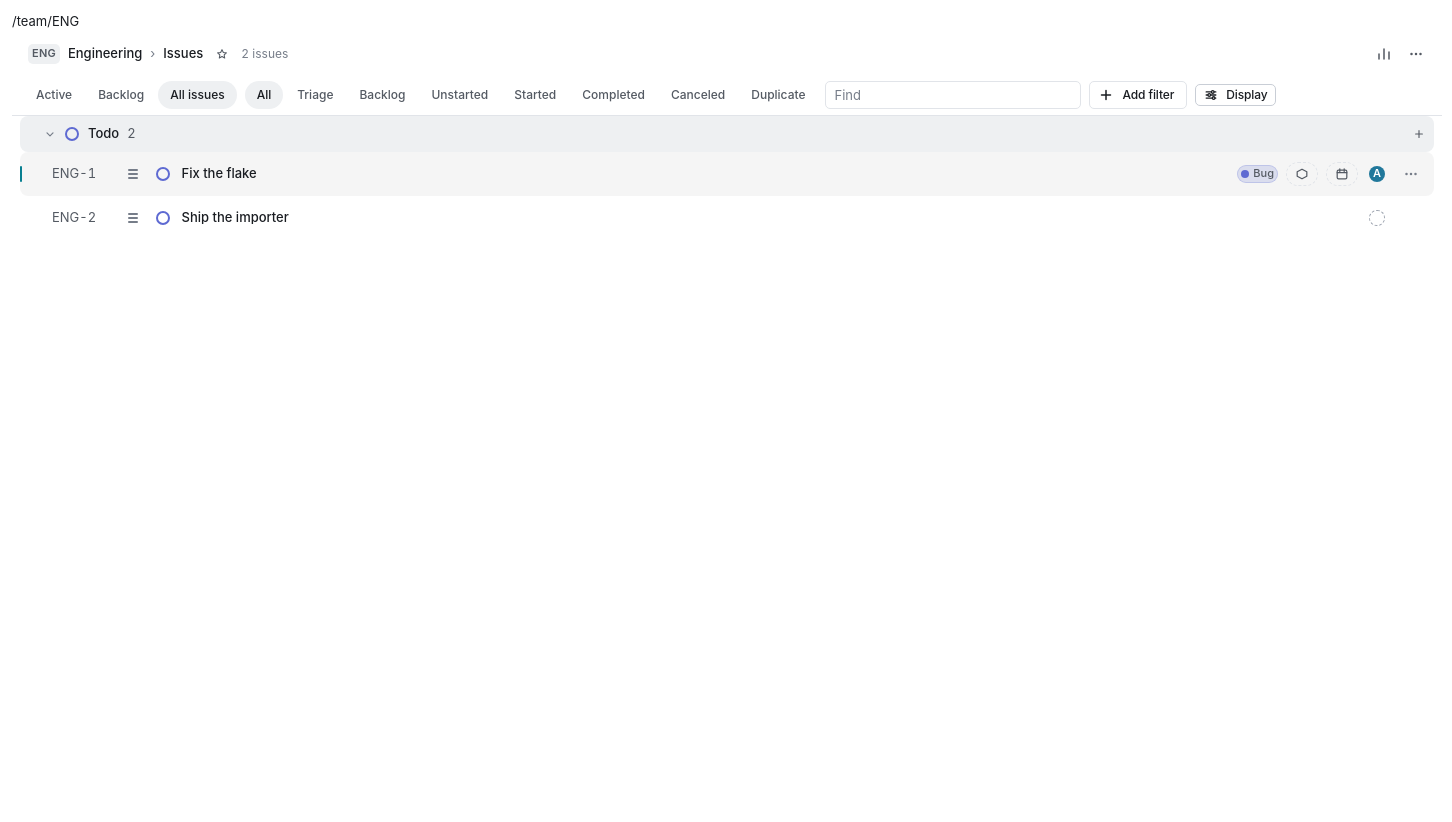
Test: the row context menu › draws the chord beside each property
The width and height of the screenshot is (1452, 822).
Right-click the cell "ENG-2 Ship the importer" at (74, 217), box [52,206,1388,228]
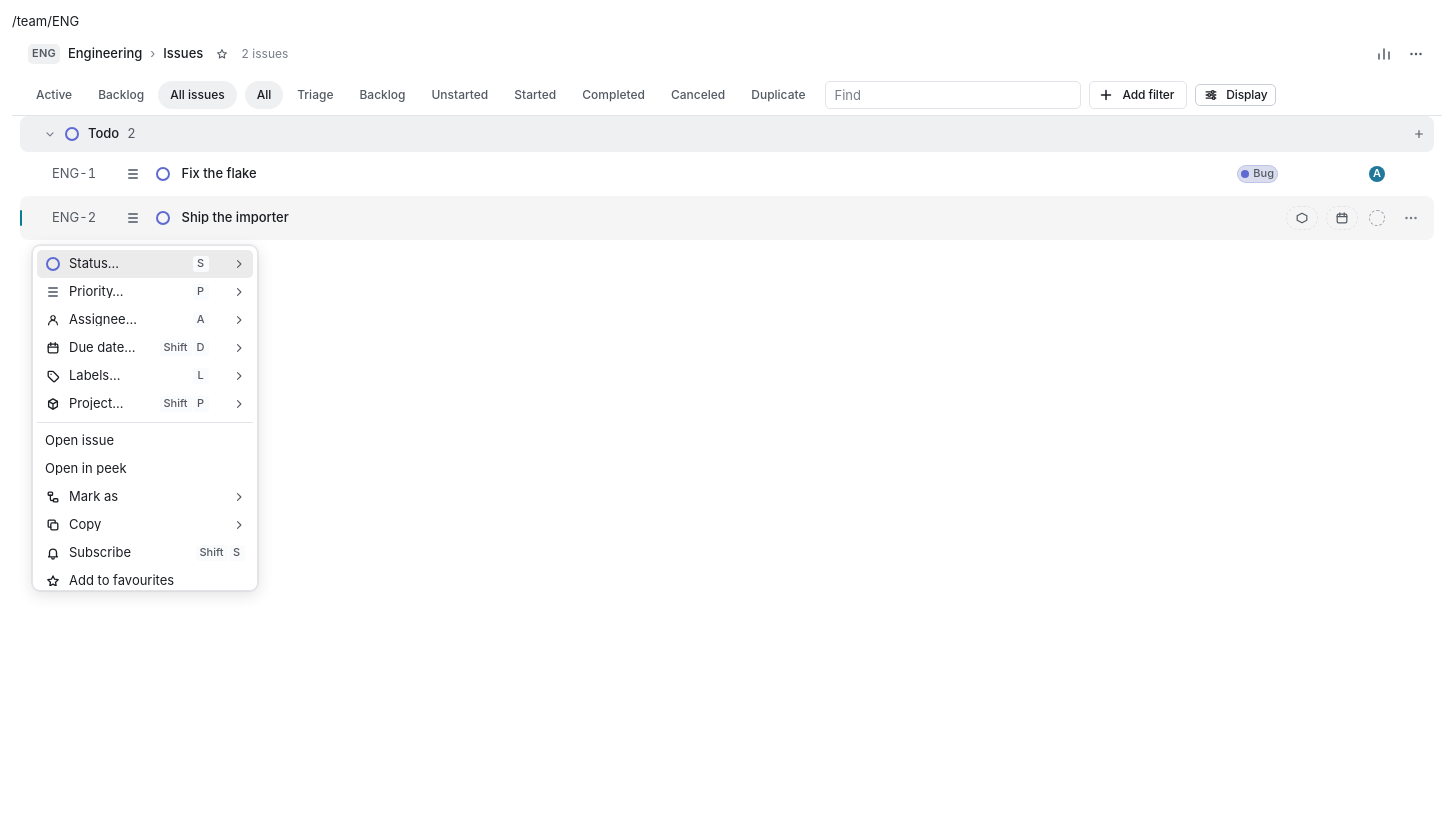
Now the menu item "Status… S" is shown, box [37,250,252,278]
